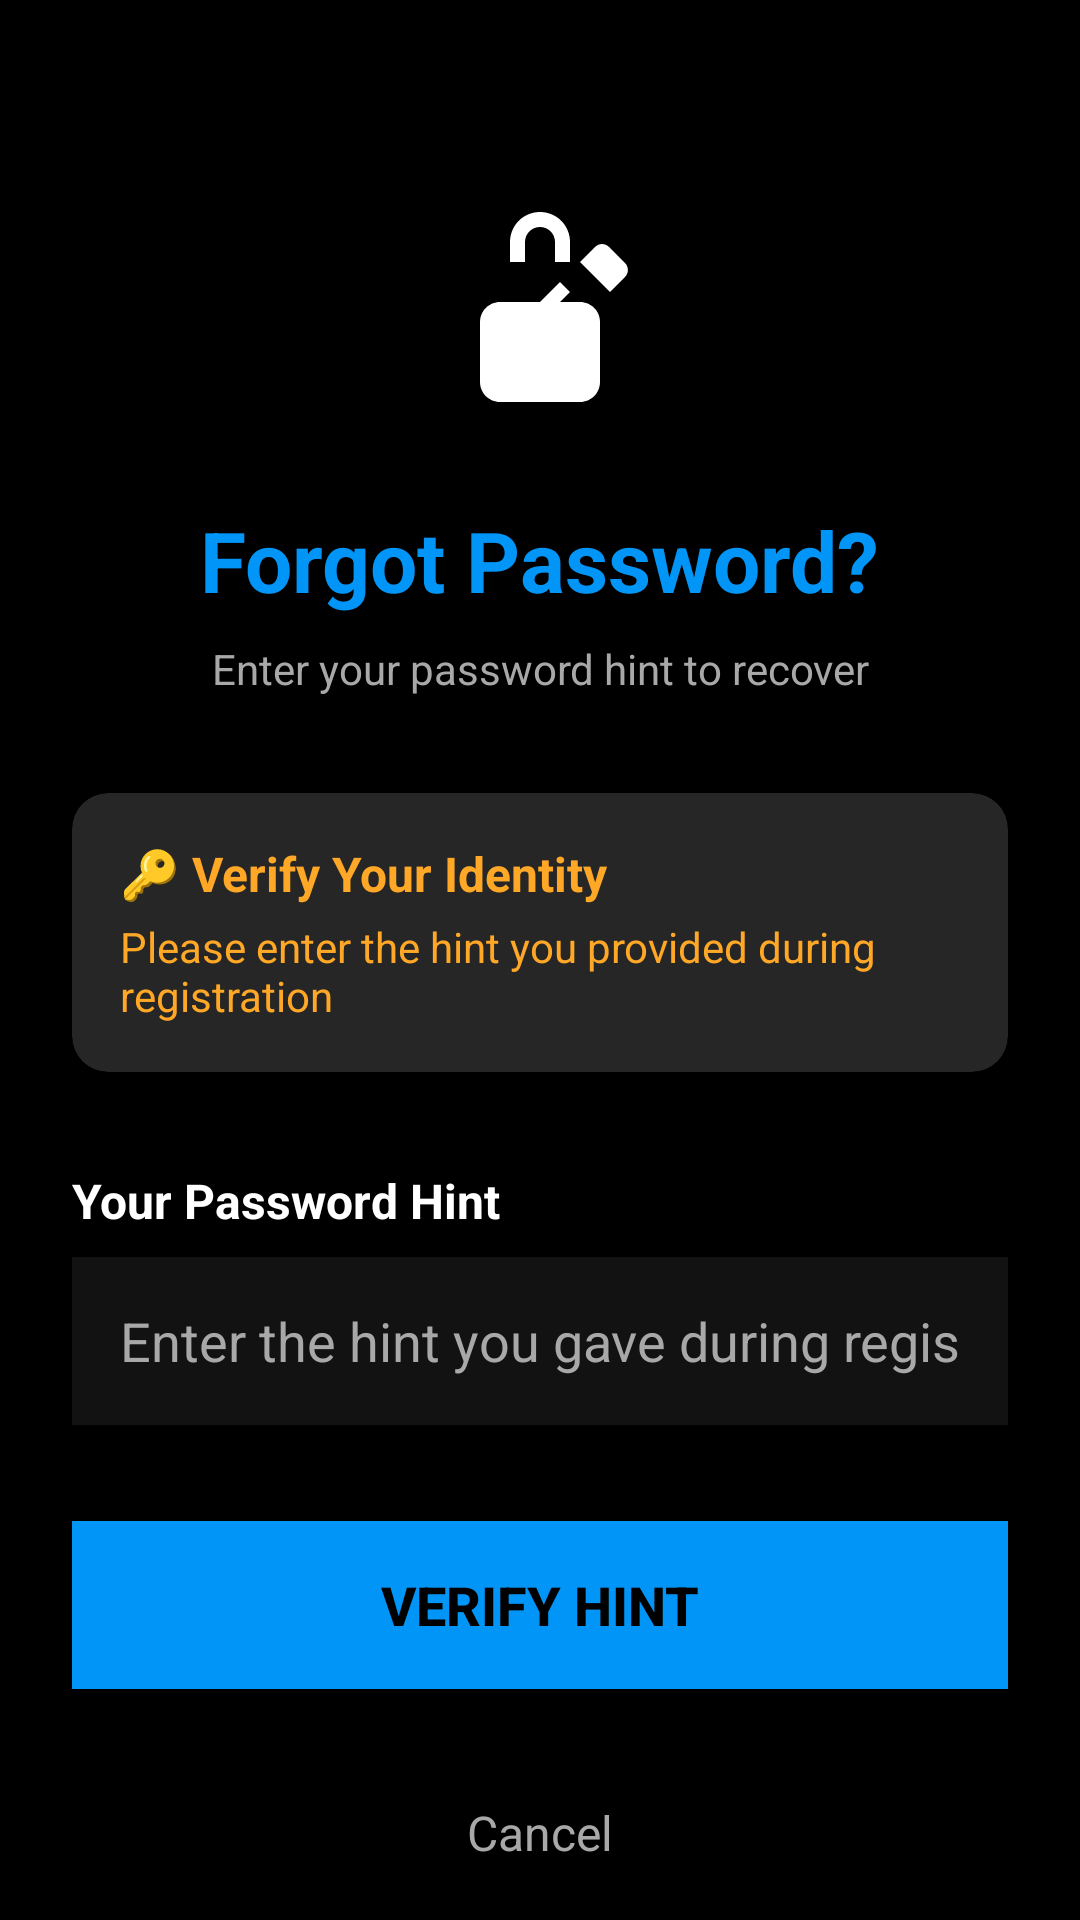

Icon bounding boxes for this 1080 × 1920 phone screenshot, format (x1, y1, x2, y2):
Lock and key icon: (480, 212, 628, 402)
